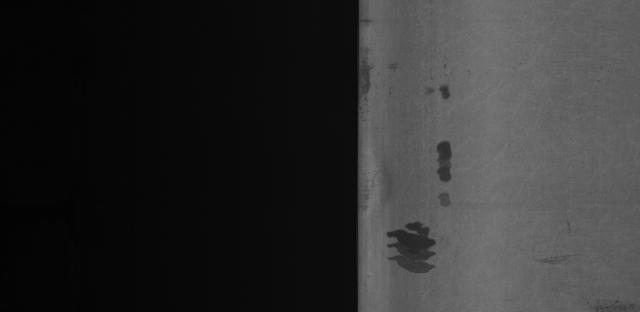oil_spot: (382, 218, 437, 277), (432, 130, 457, 213), (358, 43, 383, 99), (430, 83, 452, 99)
